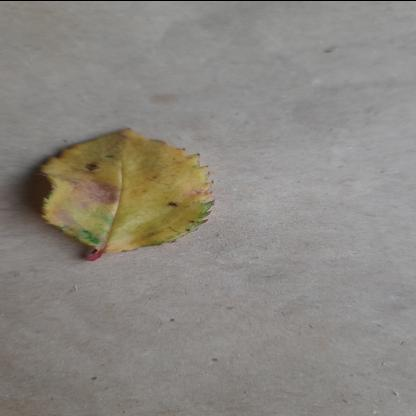black-spot: (34, 125, 218, 252)
